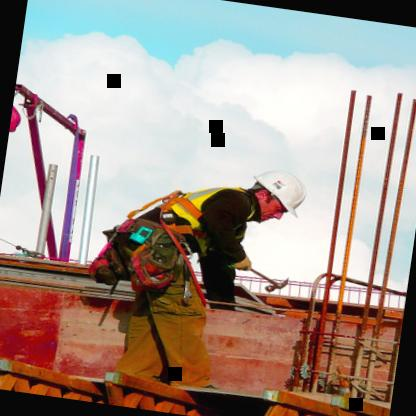helmet: (224, 148, 315, 231)
